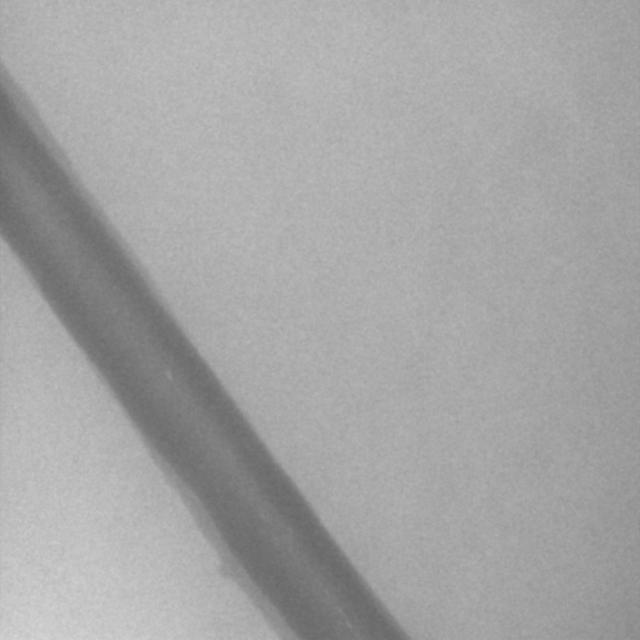air hole: (163, 367, 174, 382)
